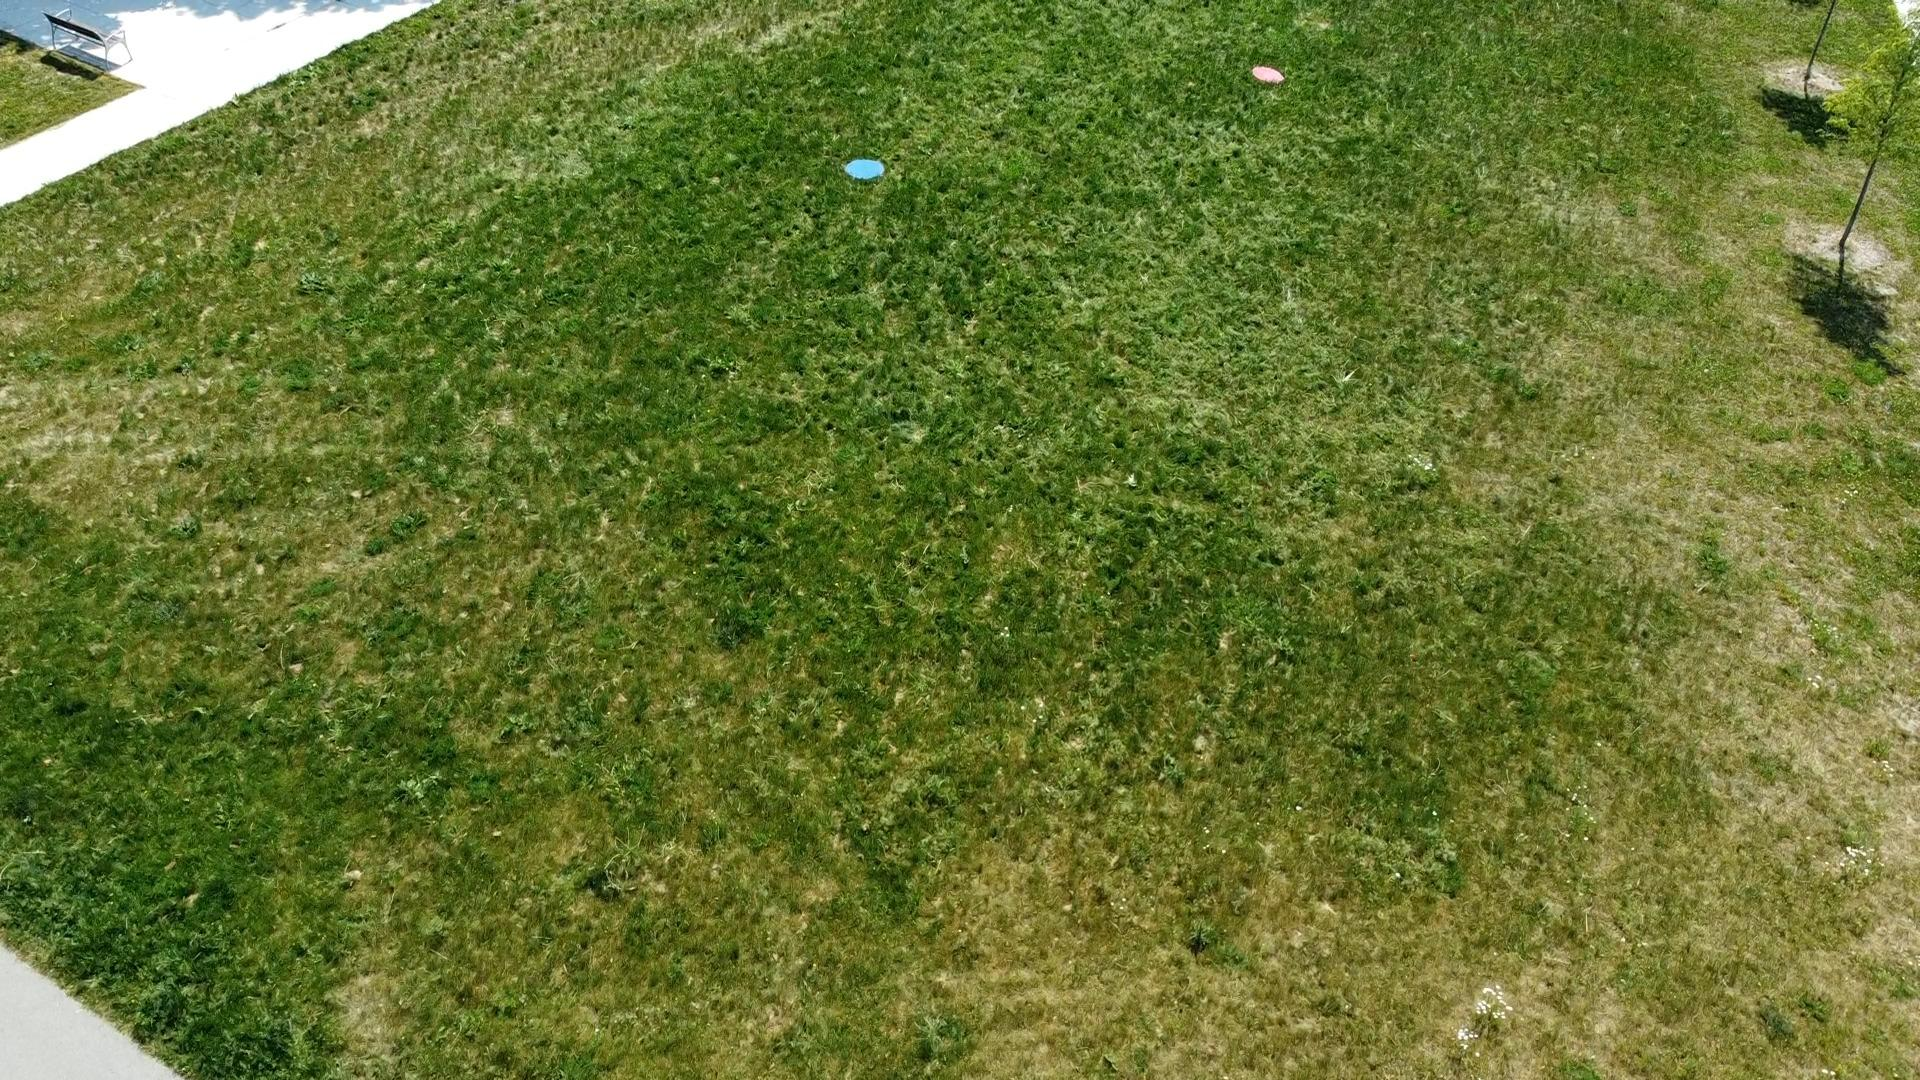Blue: (841, 156, 886, 183)
Red: (1249, 63, 1287, 86)
